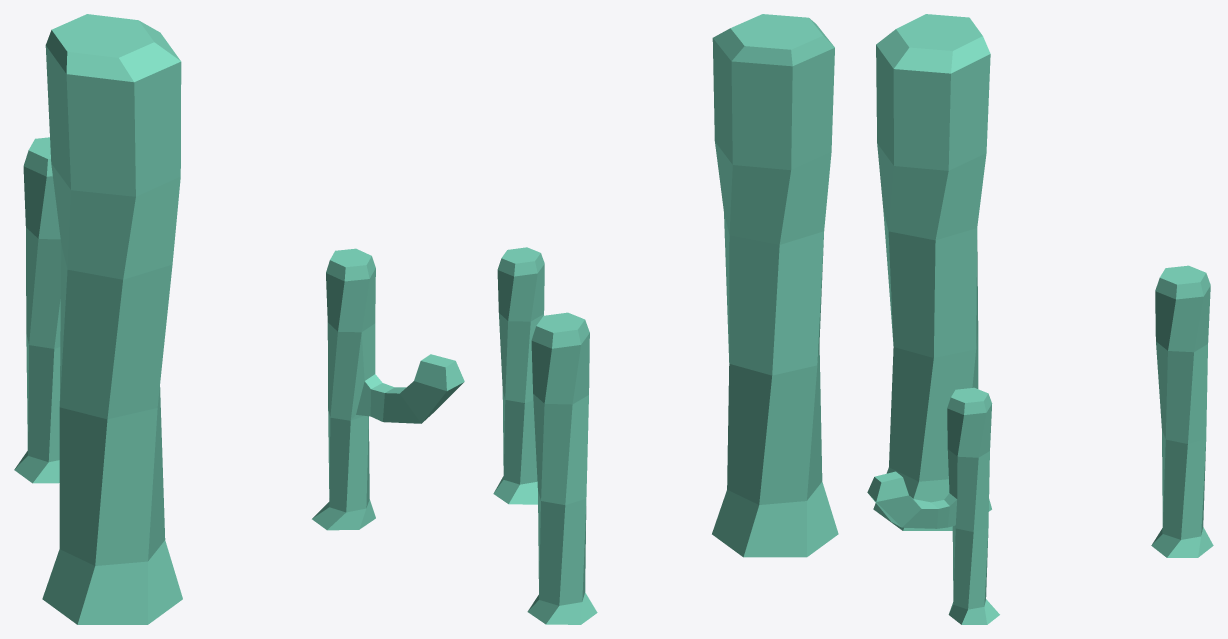
Rendered from st1_tree10.fbx.
3 views of the same model, side by side, from view 1: azimuth 30°, elevation 25°; view 2: azimuth 150°, elevation 25°; view 3: azimuth 270°, elevation 25° (orthographic). The views are drawn at different scales.
Visible parts, largest first — view 1: BezierCurve_001; view 2: BezierCurve_001; view 3: BezierCurve_001.
Part boxes in pixels (box(x1,y1,x2,y2)): BezierCurve_001: box(14, 14, 464, 624); BezierCurve_001: box(493, 14, 838, 624); BezierCurve_001: box(867, 14, 1213, 624).
Size of the model in its own units: 74.64 by 107 by 70.68.
